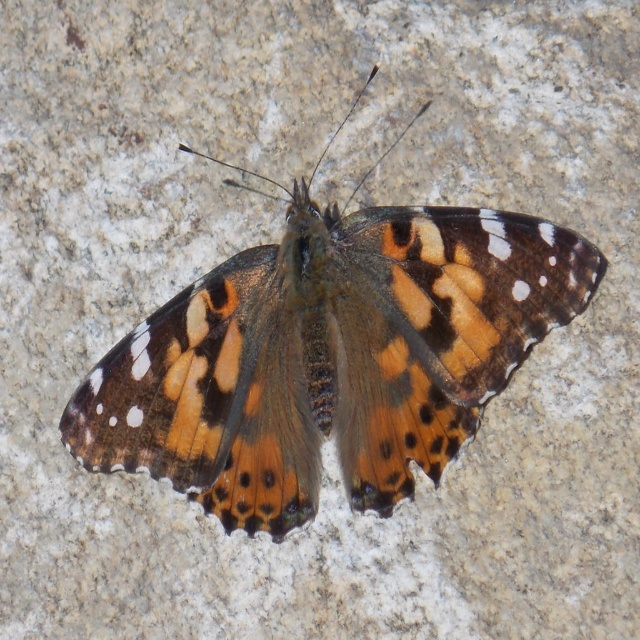Butterfly: (56, 53, 610, 534)
